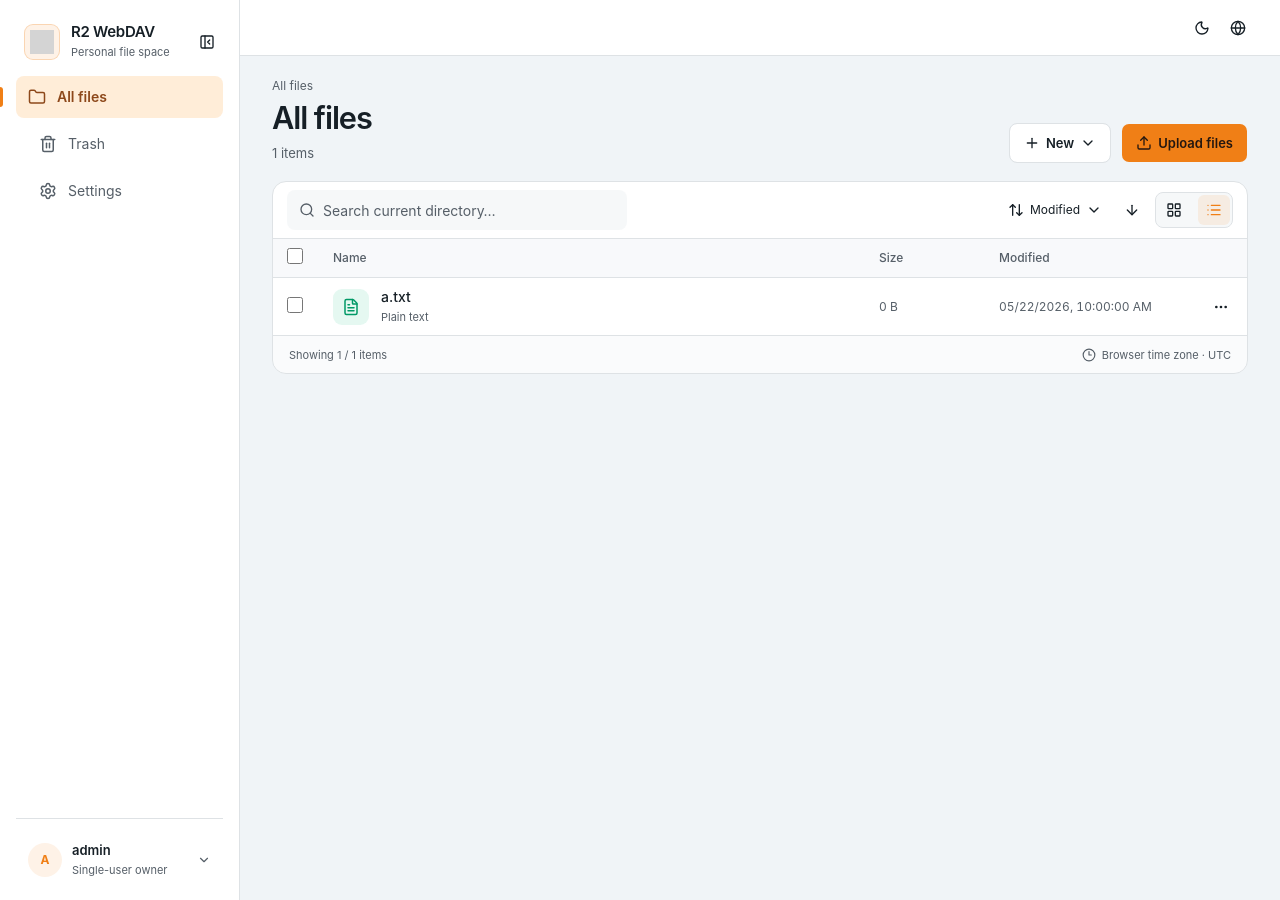
Test: FilesPage › rejects duplicate folder names before creating
The width and height of the screenshot is (1280, 900).
Expected: the button with aria-label "open a.txt" is shown, top-left (333, 287), bottom-right (851, 326)
Press the mouse on the button "New" at point(1060, 143), box top-left (1009, 123), bottom-right (1111, 163)
Click the button "New" at point(1060, 143), box top-left (1009, 123), bottom-right (1111, 163)
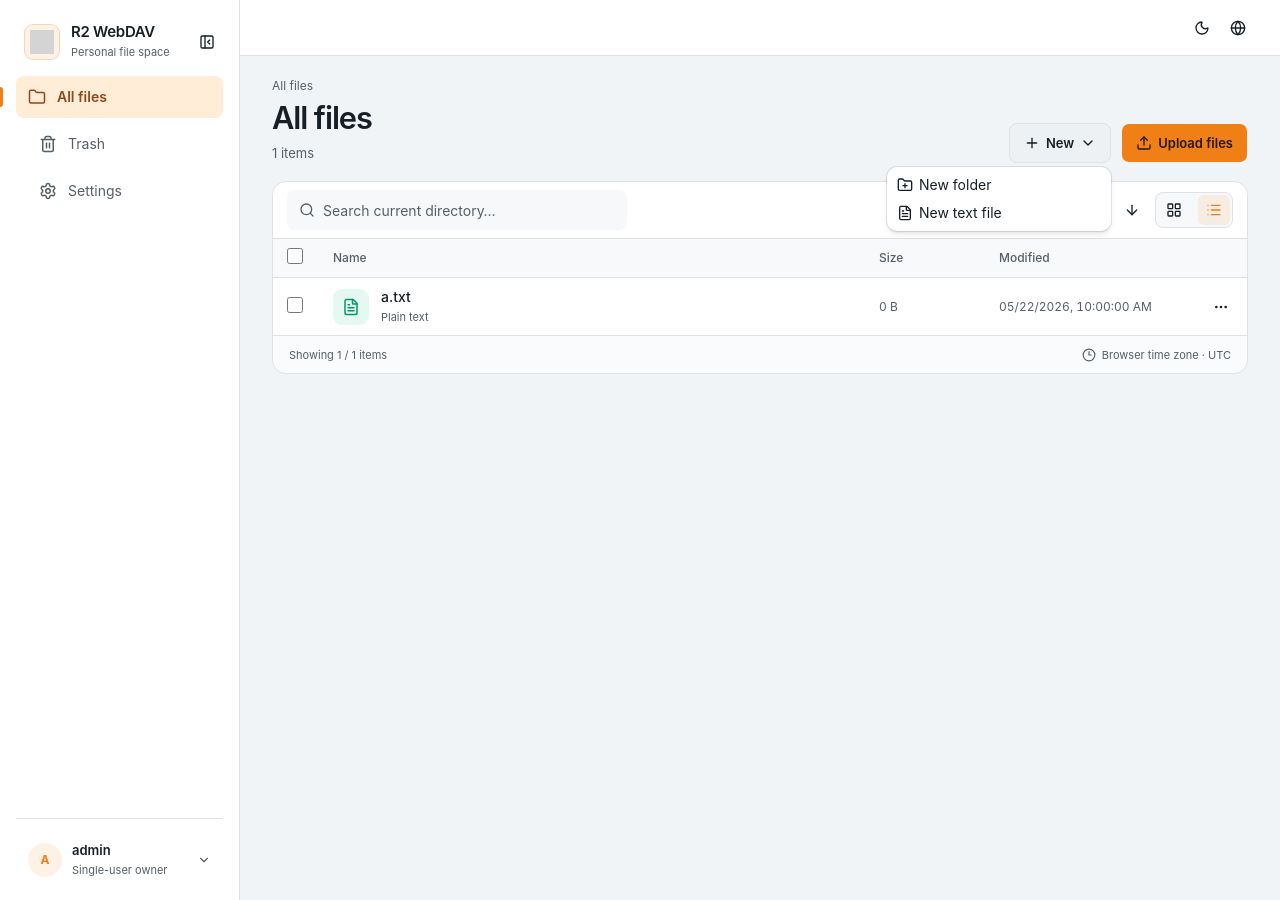
Click the menu item "New folder" at point(944, 184), box top-left (897, 176), bottom-right (991, 193)
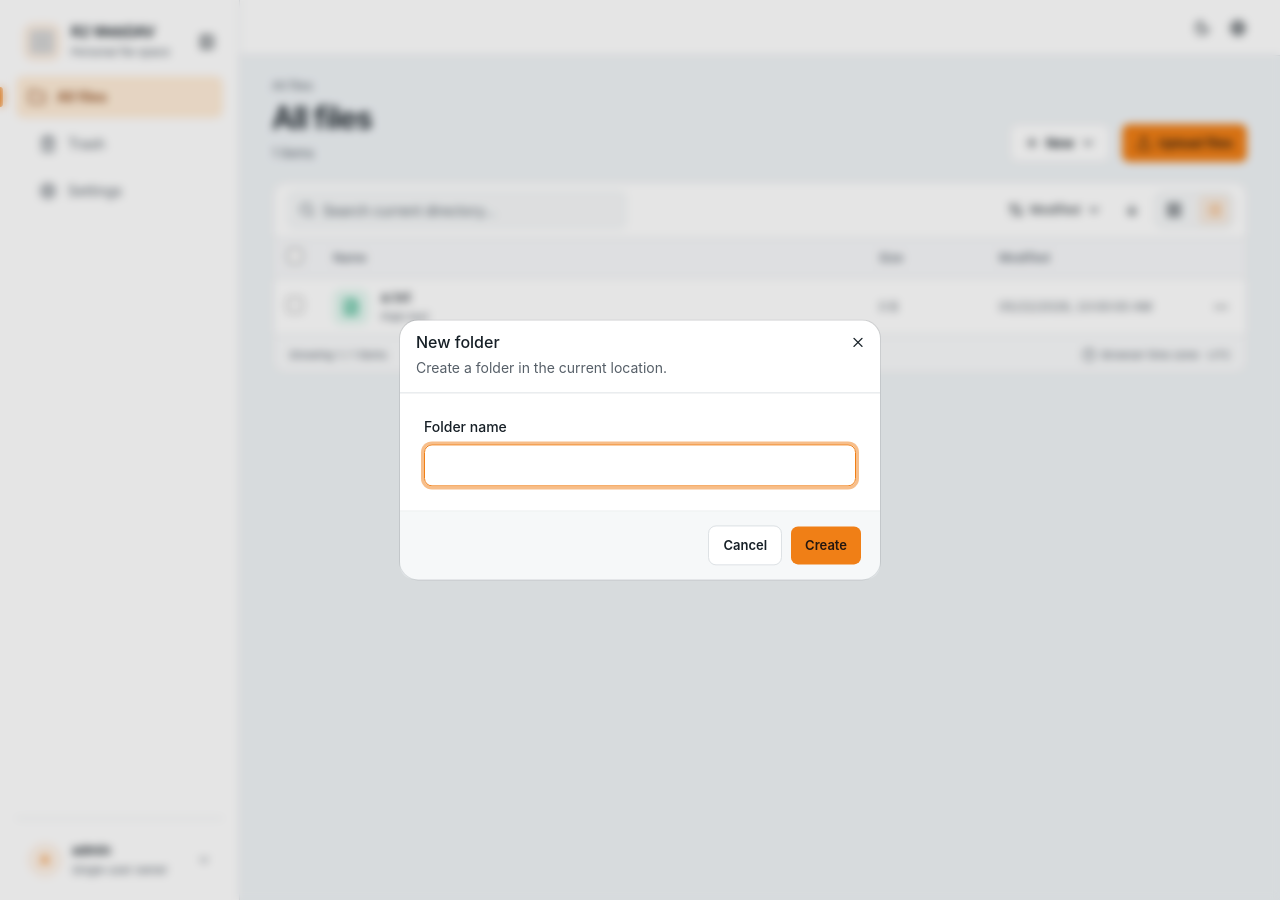
Type "a.txt" into the field labelled "Folder name" at point(640, 466), box top-left (424, 445), bottom-right (856, 487)
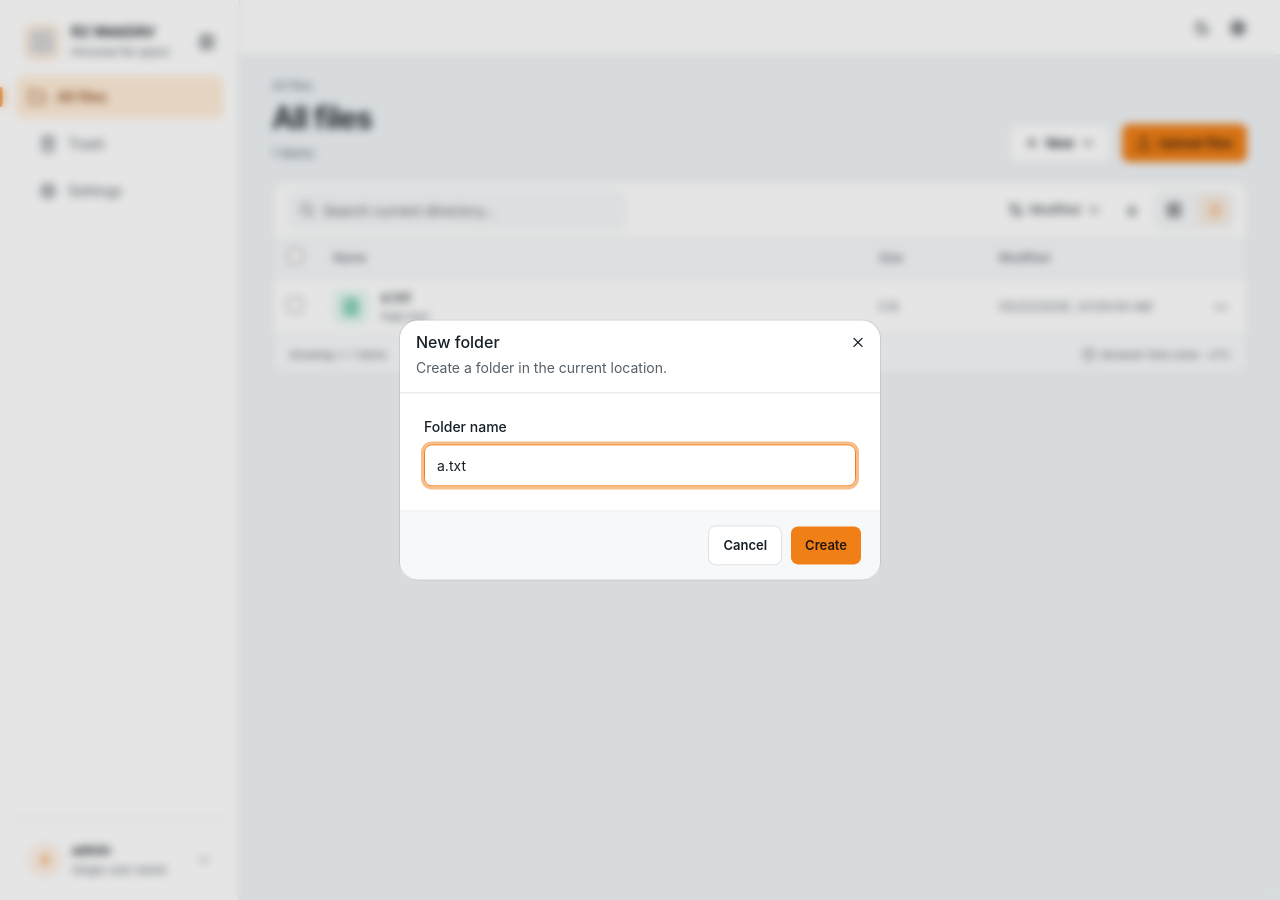
Click the button "Create" at point(826, 546), box top-left (790, 526), bottom-right (862, 566)
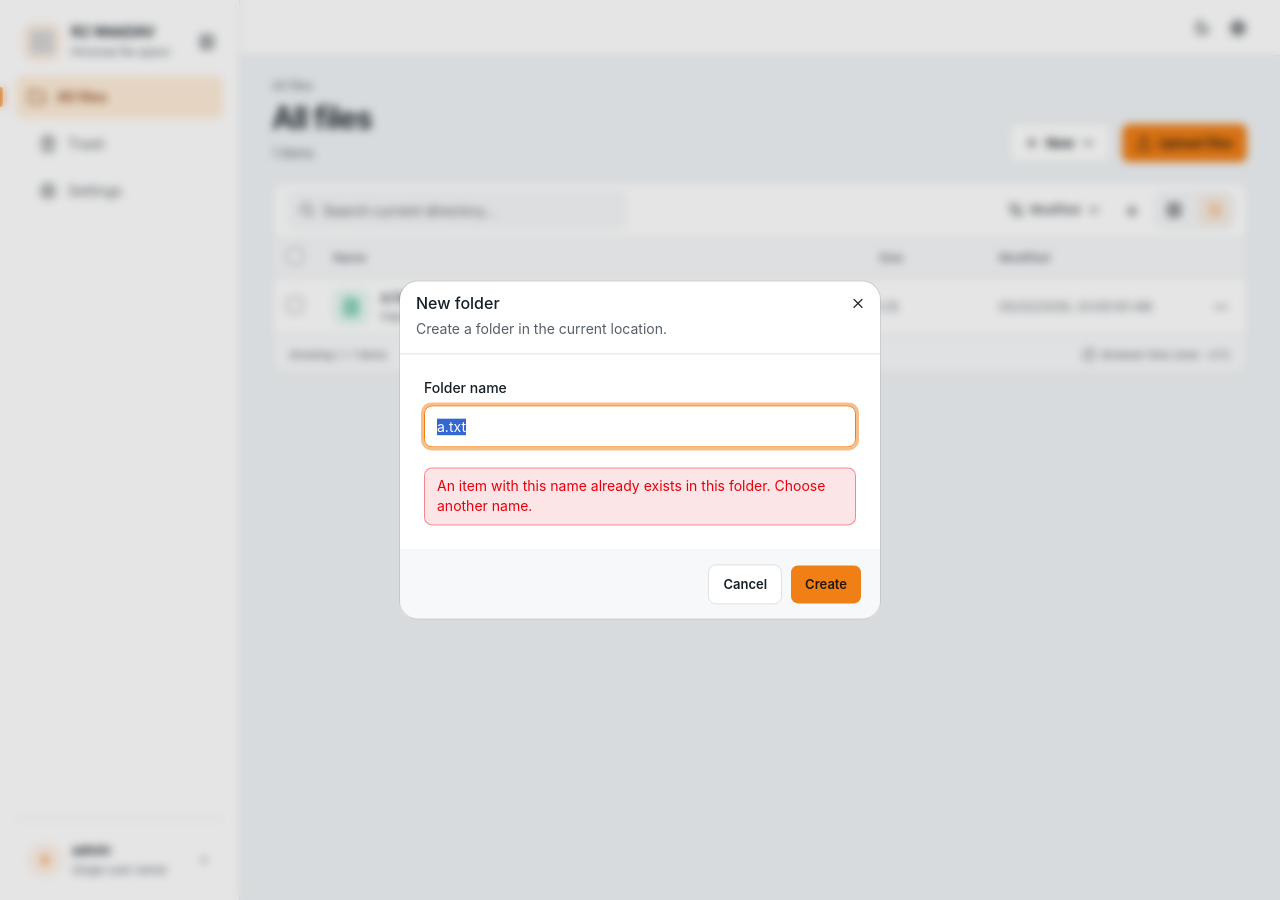
Expected: the text "An item with this name already exists in this folder. Choose another name." is shown, top-left (424, 468), bottom-right (856, 526)
